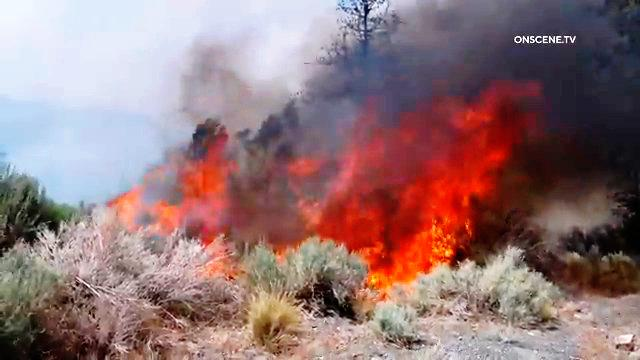fire: (353, 79, 514, 275), (119, 146, 237, 263)
smoke: (176, 30, 301, 151), (536, 63, 640, 192), (366, 0, 507, 74)
